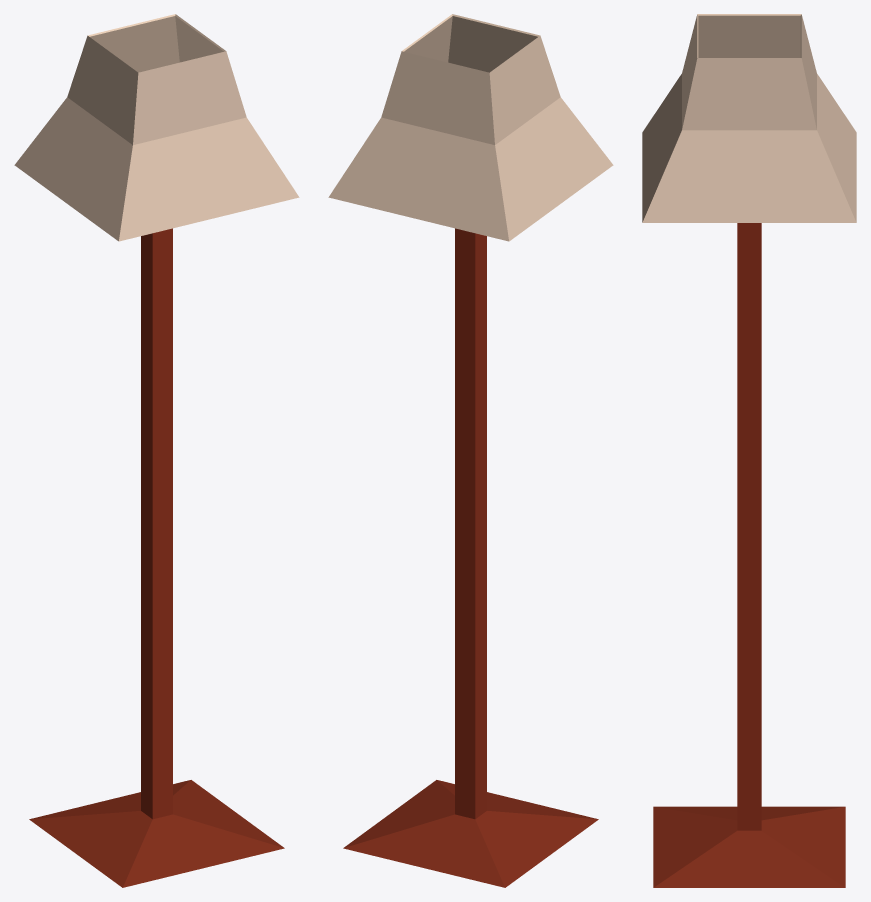
File: low_poly_big_lamp.fbx
3 views of the same model, side by side, from view 1: azimuth 30°, elevation 25°; view 2: azimuth 150°, elevation 25°; view 3: azimuth 270°, elevation 25° (orthographic). The views are drawn at different scales.
Visible parts, largest first — view 1: Cube.027; view 2: Cube.027; view 3: Cube.027.
Boxes of the visible parts, x1=… form: Cube.027: x1=14, y1=14, x2=299, y2=887; Cube.027: x1=328, y1=14, x2=613, y2=887; Cube.027: x1=642, y1=14, x2=856, y2=887.
Size of the model in its own units: 178 by 744 by 178.
